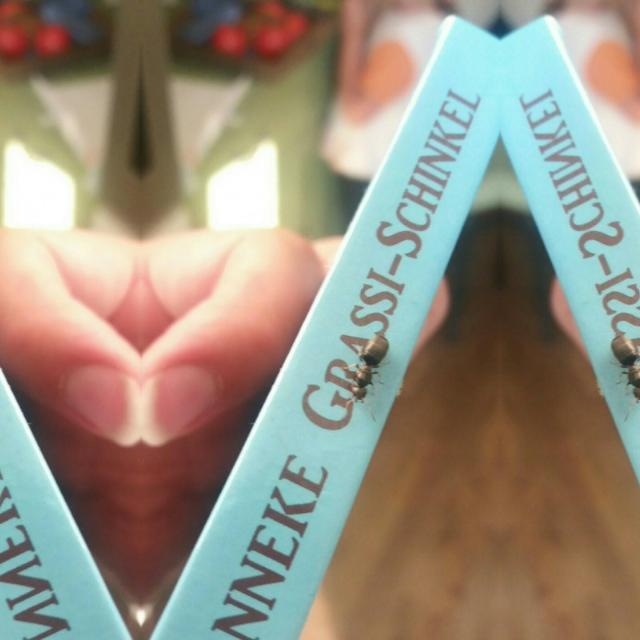Formica: (339, 318, 401, 422), (596, 316, 640, 422)
